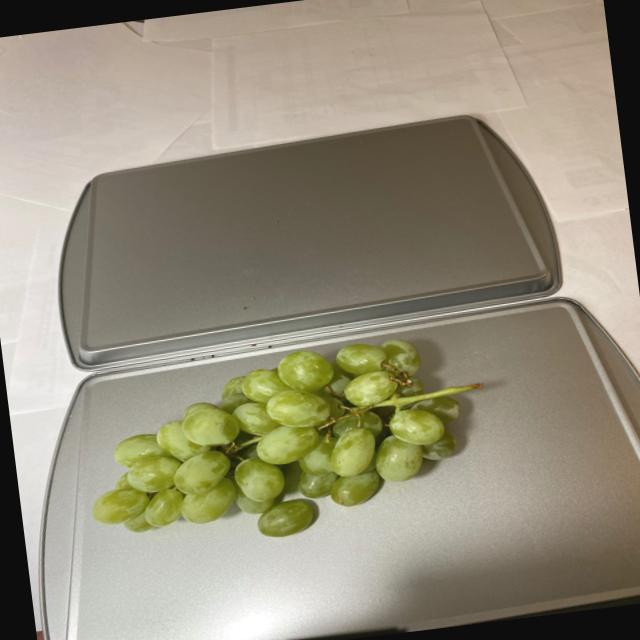grapes: (76, 327, 508, 559)
